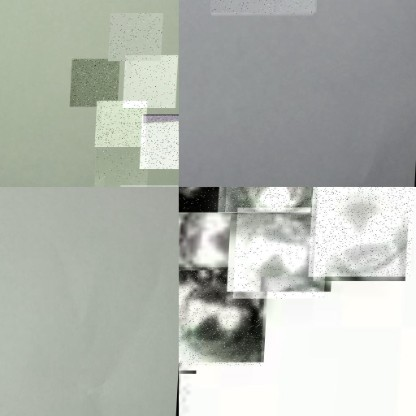ironball: (310, 186, 415, 276), (178, 266, 267, 365), (235, 207, 329, 298), (124, 54, 178, 107), (109, 12, 164, 60), (218, 186, 314, 212), (96, 100, 149, 146), (71, 58, 121, 106), (96, 149, 151, 186), (141, 114, 178, 168), (178, 186, 230, 212), (178, 354, 184, 389)
